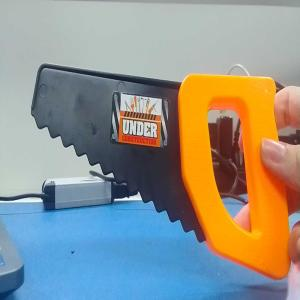serrote: (31, 62, 288, 281)
